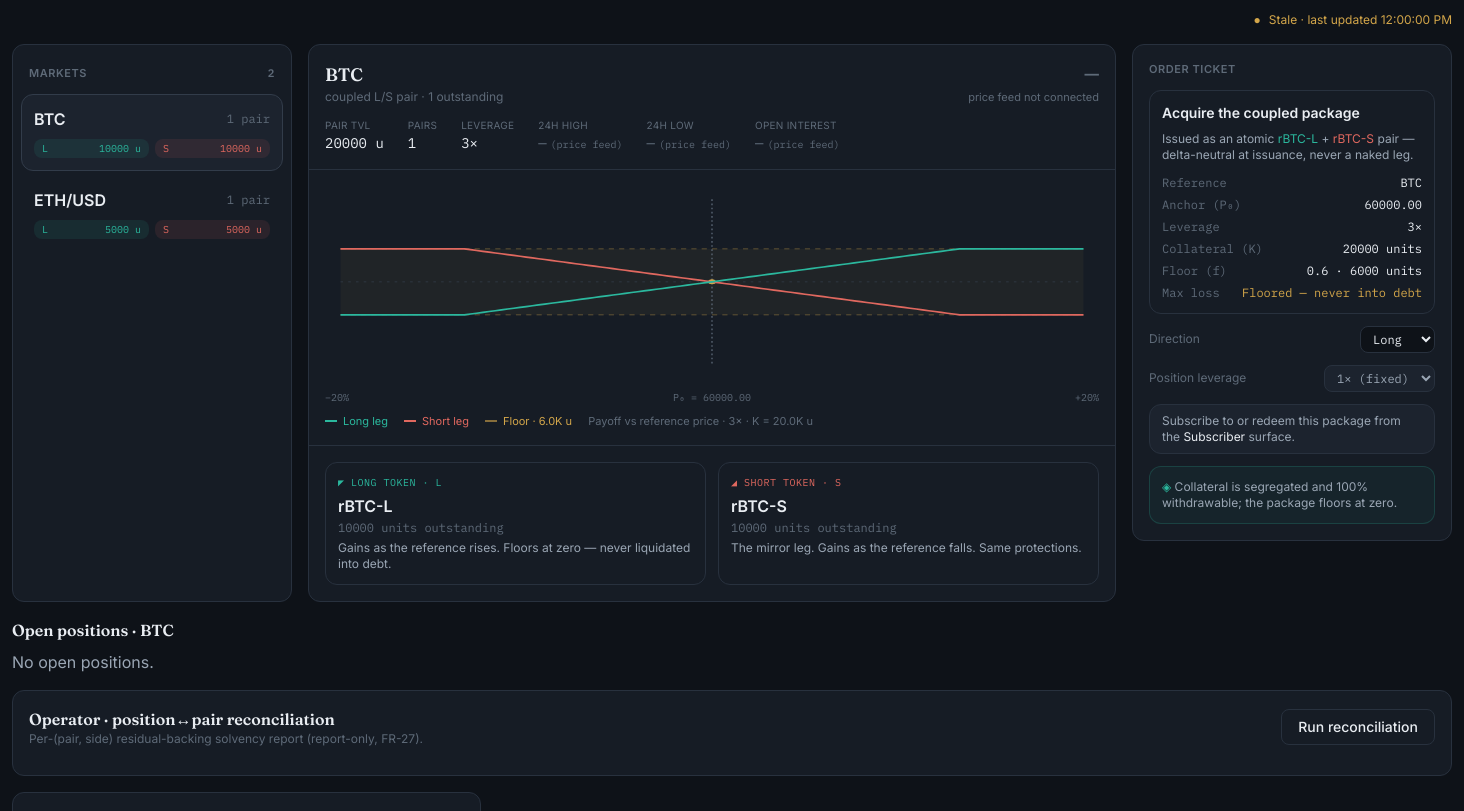
Exchange terminal (spec #5 — coupled-package model) › scopes the center + positions to the selected market
Check: the heading "BTC" is shown, box [325, 63, 363, 86]
# Select ETH/USD from the market list.
Click the button "ETH/USD 1 pair L 5000 u S 5000 u".
click(70, 200)  # box [21, 174, 283, 252]
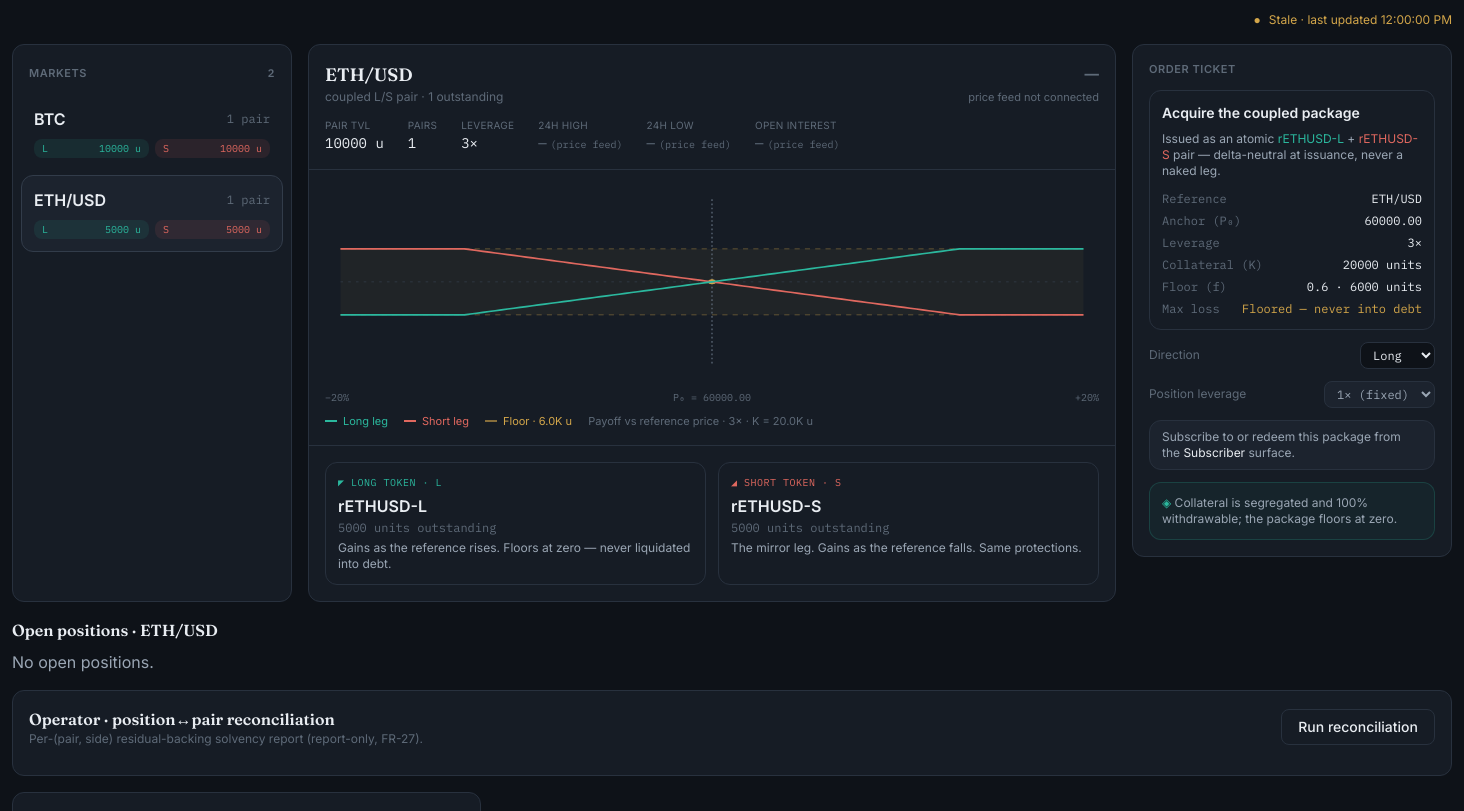
Check: the heading "ETH/USD" is shown, box [325, 63, 413, 86]
